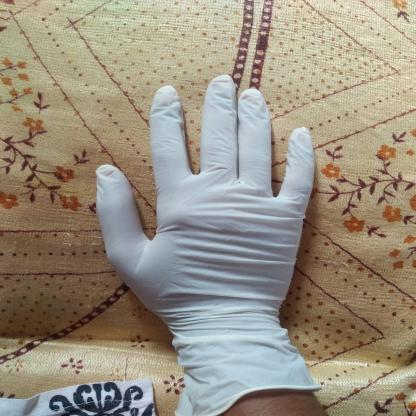gloved_hand: (90, 71, 324, 415)
